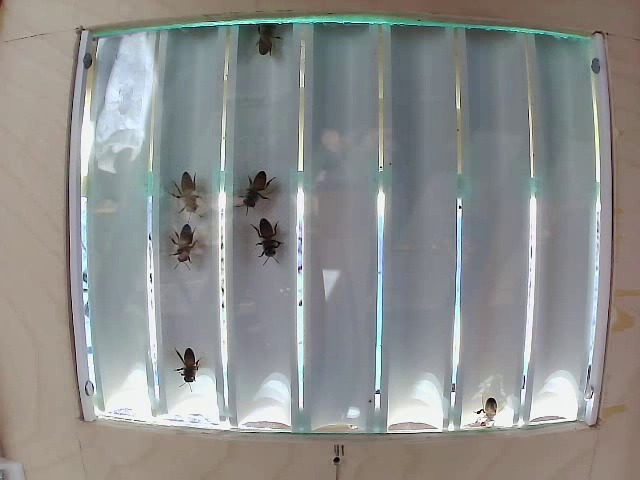bee: (173, 222, 212, 278), (260, 210, 291, 266), (235, 172, 273, 216), (163, 170, 203, 210), (170, 354, 200, 385)
